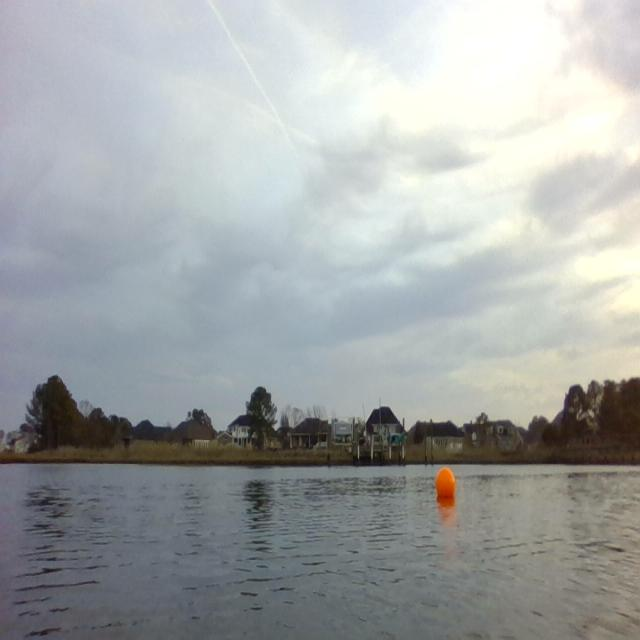Buoy: (435, 466, 456, 502)
